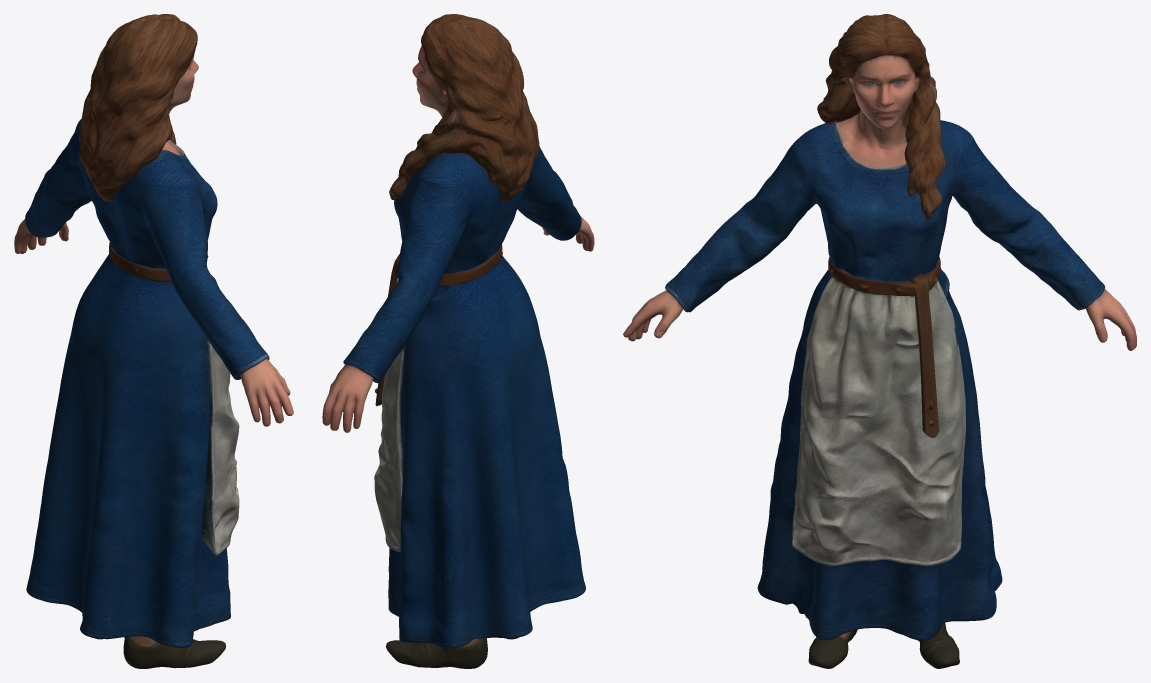
The picture shows the model from 3 angles, left to right: view 1: azimuth 30°, elevation 25°; view 2: azimuth 150°, elevation 25°; view 3: azimuth 270°, elevation 25°; orthographic projection.
Parts seen in each view (by area): view 1: tripo_node_e5ddd943-99dc-4734-b3c4-e6d0d107d20f; view 2: tripo_node_e5ddd943-99dc-4734-b3c4-e6d0d107d20f; view 3: tripo_node_e5ddd943-99dc-4734-b3c4-e6d0d107d20f.
Boxes of the visible parts, x1,y1,x2,y2 form: tripo_node_e5ddd943-99dc-4734-b3c4-e6d0d107d20f: (14,14,293,668); tripo_node_e5ddd943-99dc-4734-b3c4-e6d0d107d20f: (322,14,594,668); tripo_node_e5ddd943-99dc-4734-b3c4-e6d0d107d20f: (623,14,1136,668).
Size of the model in its own units: 0.2657 by 1 by 0.7348.
Materials: 1 (1 with a texture image).
